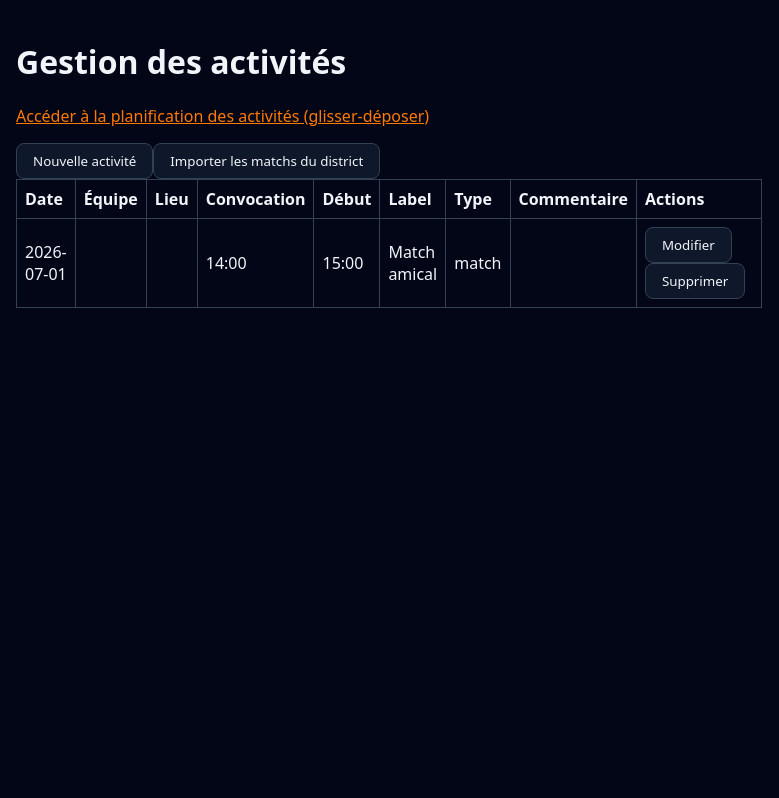
Test: AdminActivitesPage › ouvre le formulaire prérempli en mode édition quand on clique sur "Modifier"
The width and height of the screenshot is (779, 798).
Click the button "Modifier".
click(688, 245)  # box [645, 227, 732, 263]
(page scrolled)
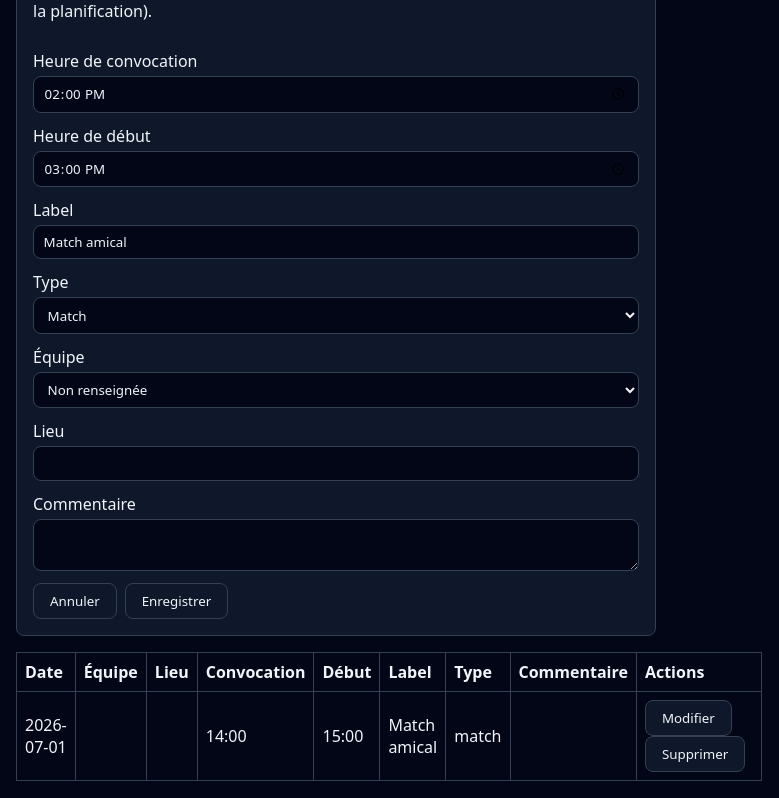
Expected: the field labelled "Label" holds "Match amical", [33, 225, 639, 259]
Expected: the button "Enregistrer" is shown, [125, 583, 228, 619]
